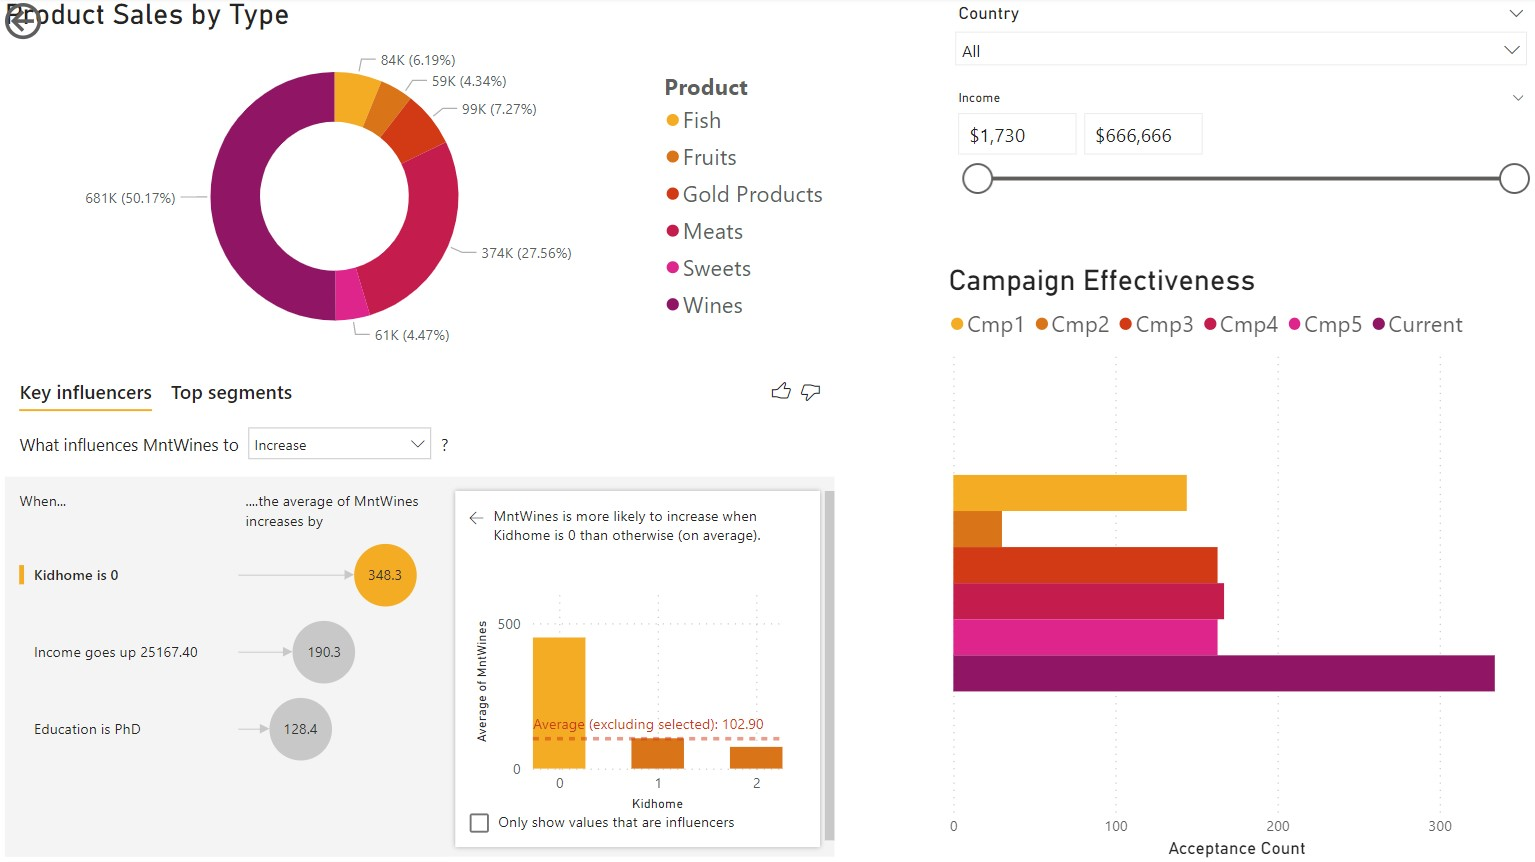

The dashboard page shown, as its layout file describes it:
{"tool":"powerbi","page":{"name":"Wine","canvas":[1280,720],"ordinal":0},"visuals":[{"type":"donutChart","title":"Product Sales by Type","fields":{"Y":["Sum(marketing_data.MntFishProducts)","Sum(marketing_data.MntFruits)","Sum(marketing_data.MntGoldProds)","Sum(marketing_data.MntMeatProducts)","Sum(marketing_data.MntSweetProducts)","Sum(marketing_data.MntWines)"]},"box":[0,0,699,304.1],"z":0},{"type":"slicer","fields":{"Values":["marketing_data.Country"]},"box":[784.2,0,495.8,64.5],"z":1000},{"type":"actionButton","box":[0,0,100,40],"z":2000},{"type":"slicer","fields":{"Values":["marketing_data. Income "]},"box":[784.3,72.1,495.7,140.8],"z":3000},{"type":"clusteredBarChart","title":"Campaign Effectiveness","fields":{"Y":["Sum(marketing_data.AcceptedCmp1)","Sum(marketing_data.AcceptedCmp2)","Sum(marketing_data.AcceptedCmp3)","Sum(marketing_data.AcceptedCmp4)","Sum(marketing_data.AcceptedCmp5)","Sum(marketing_data.CurrentCmpn)"]},"box":[784.3,221.1,495.7,499.2],"z":4000},{"type":"keyDriversVisual","fields":{"Target":["marketing_data.MntWines"],"ExplainBy":["marketing_data. Income ","marketing_data.Kidhome","marketing_data.Education"]},"box":[0,303.7,699.3,416.6],"z":5000}]}

Visuals, with their boxes in screenshot pixels (x1, y1, x2, y2), scaled from the page's 1280x720 canvas onto the 1535x862 screenshot:
"Product Sales by Type" donutChart: {"left": 0, "top": 0, "right": 838, "bottom": 364}
slicer - marketing_data.Country: {"left": 940, "top": 0, "right": 1534, "bottom": 77}
actionButton: {"left": 0, "top": 0, "right": 120, "bottom": 48}
slicer - marketing_data. Income : {"left": 941, "top": 86, "right": 1534, "bottom": 255}
"Campaign Effectiveness" clusteredBarChart: {"left": 941, "top": 265, "right": 1534, "bottom": 861}
keyDriversVisual - marketing_data.MntWines x marketing_data. Income : {"left": 0, "top": 364, "right": 839, "bottom": 861}
